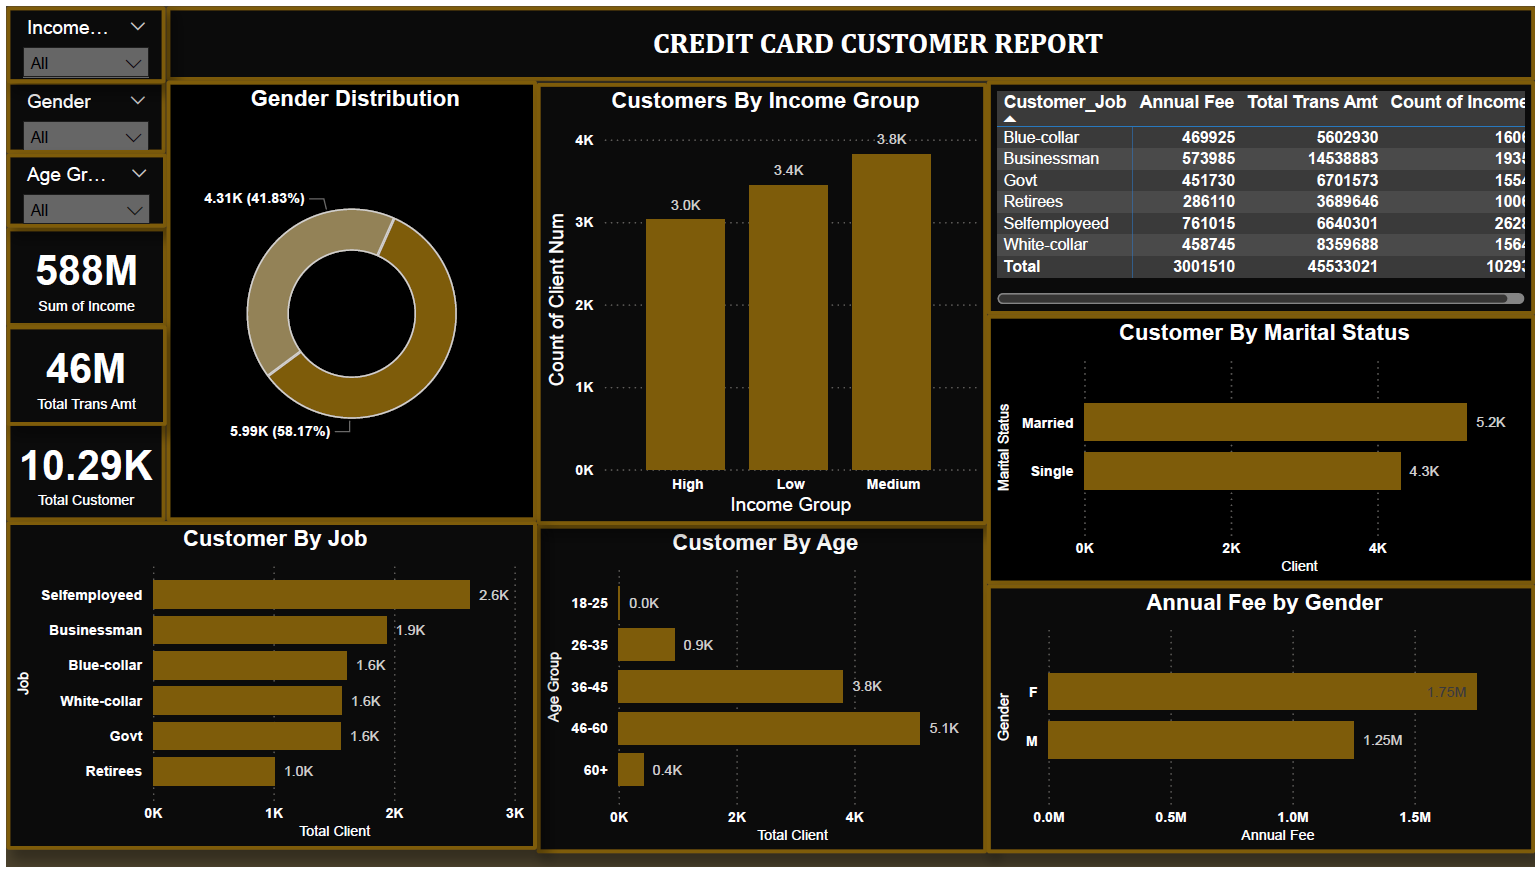

Layout of this report page (visuals, bound fields, positions):
{"tool":"powerbi","page":{"name":"customer report","canvas":[1280,720],"ordinal":0},"visuals":[{"type":"textbox","box":[134.3,0,1145.9,61.9],"z":0},{"type":"card","fields":{"Values":["CountNonNull(customer.Client_Num)"]},"box":[0,348.2,132.6,82.9],"z":1000},{"type":"card","fields":{"Values":["Avg(customer.Income)"]},"box":[0,267.7,133.8,82.9],"z":2000},{"type":"card","fields":{"Values":["Avg(customer.Cust_Satisfaction_Score)"]},"box":[0,184.8,133.8,82.9],"z":3000},{"type":"slicer","fields":{"Values":["customer.Gender"]},"box":[0,61.6,132.6,61.6],"z":4000},{"type":"slicer","fields":{"Values":["customer.Age Group"]},"box":[0,123.2,133.8,61.6],"z":5000},{"type":"slicer","fields":{"Values":["customer.Income Group"]},"box":[0,0,132.6,64],"z":6000},{"type":"donutChart","title":"Gender Distribution","fields":{"Category":["customer.Gender"],"Y":["CountNonNull(customer.Client_Num)"]},"box":[133.8,61.6,400.3,369.5],"z":7000},{"type":"clusteredBarChart","title":"Customer By Age","fields":{"Category":["customer.Age Group"],"Y":["CountNonNull(customer.Client_Num)"]},"box":[471.4,431.1,357.7,274.8],"z":8000},{"type":"clusteredColumnChart","title":"Customers By Income Group","fields":{"Category":["customer.Income Group"],"Y":["CountNonNull(customer.Client_Num)"]},"box":[525.8,61.6,349.4,369.5],"z":9000},{"type":"clusteredBarChart","title":"Customer By Job","fields":{"Category":["customer.Customer_Job"],"Y":["CountNonNull(customer.Client_Num)"]},"box":[0,431.1,471.4,274.8],"z":10000},{"type":"columnChart","title":"Customer By Marital Status","fields":{"Category":["customer.Marital_Status"],"Y":["CountNonNull(CreditCard.Client_Num)"]},"box":[829,431.1,451.2,275.9],"z":12000},{"type":"tableEx","fields":{"Values":["customer.Customer_Job","customer.Age Group","customer.Income","customer.Income Group"]},"box":[875.2,64,405,367.3],"z":13000}]}

Visuals, with their boxes in screenshot pixels (x1, y1, x2, y2), scaled from the page's 1280x720 canvas onto the 1539x871 screenshot:
textbox: <region>161, 0, 1538, 75</region>
card - CountNonNull(customer.Client_Num): <region>0, 421, 159, 522</region>
card - Avg(customer.Income): <region>0, 324, 161, 424</region>
card - Avg(customer.Cust_Satisfaction_Score): <region>0, 224, 161, 324</region>
slicer - customer.Gender: <region>0, 75, 159, 149</region>
slicer - customer.Age Group: <region>0, 149, 161, 224</region>
slicer - customer.Income Group: <region>0, 0, 159, 77</region>
"Gender Distribution" donutChart: <region>161, 75, 642, 522</region>
"Customer By Age" clusteredBarChart: <region>567, 522, 997, 854</region>
"Customers By Income Group" clusteredColumnChart: <region>632, 75, 1052, 522</region>
"Customer By Job" clusteredBarChart: <region>0, 522, 567, 854</region>
"Customer By Marital Status" columnChart: <region>997, 522, 1538, 855</region>
tableEx - customer.Customer_Job x customer.Age Group: <region>1052, 77, 1538, 522</region>
